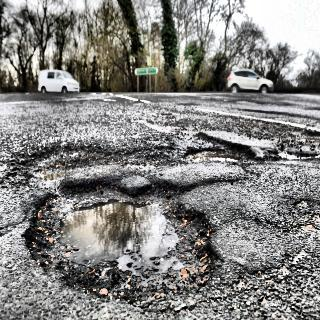pothole: (25, 175, 221, 305), (181, 136, 255, 168)
